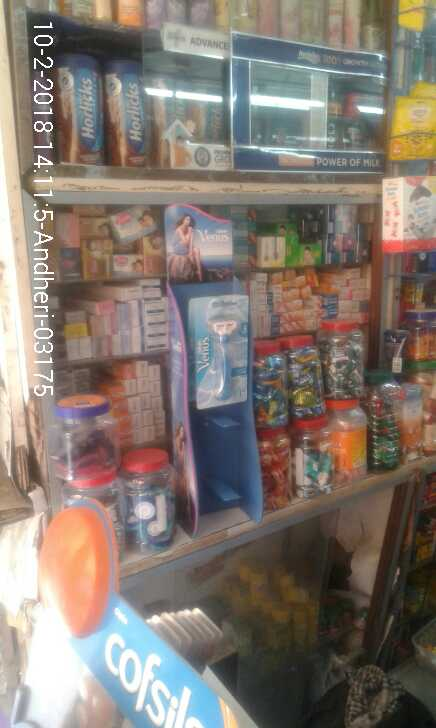beauty: (194, 294, 248, 407)
